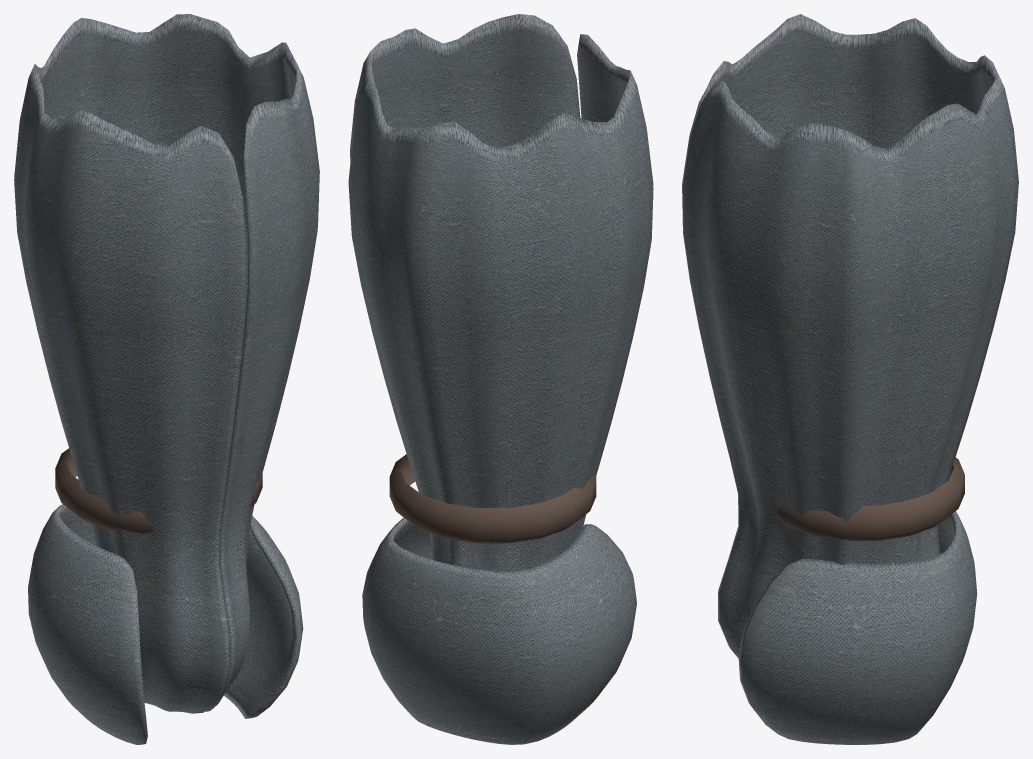
File: robe.glb
The picture shows the model from 3 angles, left to right: view 1: azimuth 30°, elevation 25°; view 2: azimuth 150°, elevation 25°; view 3: azimuth 270°, elevation 25°; orthographic projection.
Parts seen in each view (by area): view 1: RobeBody, RobeShawl, RobeBelt; view 2: RobeBody, RobeShawl, RobeBelt; view 3: RobeBody, RobeShawl, RobeBelt.
Part boxes in pixels (<box>): RobeBody: <box>14,14,319,713</box>; RobeShawl: <box>28,504,303,744</box>; RobeBelt: <box>55,448,262,533</box>; RobeBody: <box>348,14,653,571</box>; RobeShawl: <box>362,517,636,744</box>; RobeBelt: <box>389,454,596,543</box>; RobeBody: <box>682,14,1018,658</box>; RobeShawl: <box>738,511,977,744</box>; RobeBelt: <box>774,457,964,540</box>.
Size of the model in its own units: 0.7539 by 1.69 by 0.7945.
2 materials, 1 textured.
